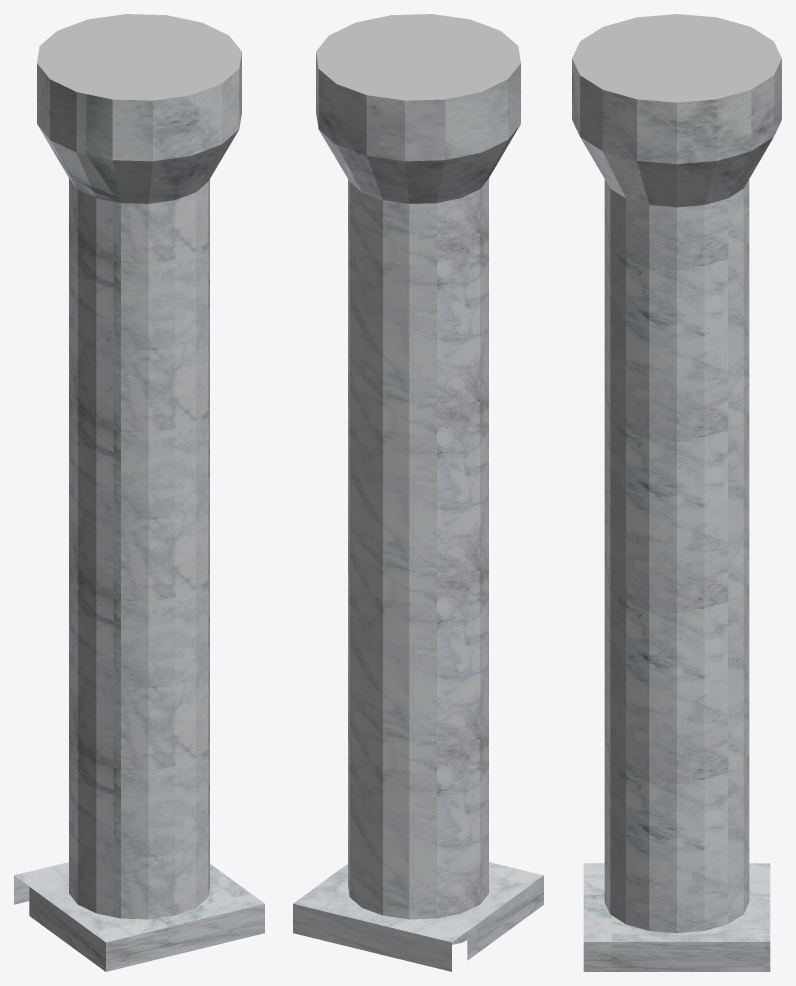
The model's file is LobbyPillar1.obj.
3 views of the same model, side by side, from view 1: azimuth 30°, elevation 25°; view 2: azimuth 150°, elevation 25°; view 3: azimuth 270°, elevation 25° (orthographic).
Parts seen in each view (by area): view 1: Circle.004; view 2: Circle.004; view 3: Circle.004.
Part boxes in pixels (left/top/right/bottom): Circle.004: left=14, top=14, right=264, bottom=971; Circle.004: left=293, top=14, right=543, bottom=971; Circle.004: left=572, top=14, right=781, bottom=971.
Size of the model in its own units: 11.08 by 50.91 by 11.08.
2 materials, 1 textured.
